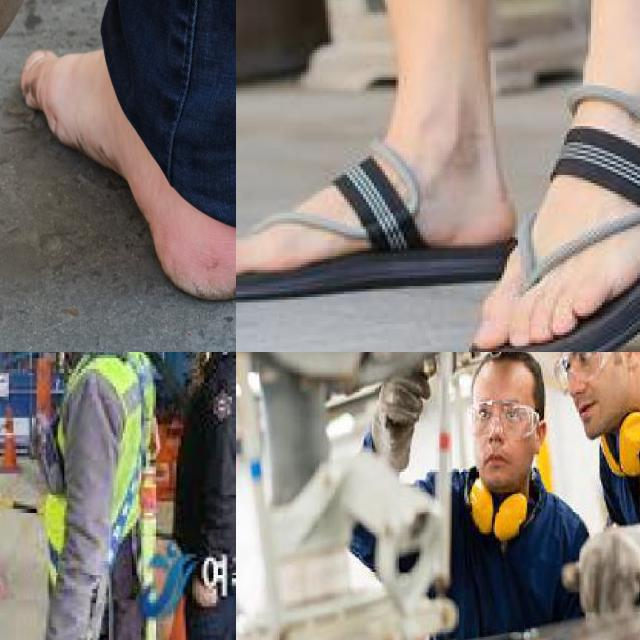Barefoots: (20, 47, 236, 300)
Ear-protection: (457, 465, 547, 541), (580, 415, 640, 486)
Sandals: (465, 62, 640, 352), (236, 148, 515, 301)
glasses: (458, 394, 542, 441), (553, 352, 624, 395)
head_nohelmet: (465, 352, 554, 490), (550, 352, 640, 448)
person: (356, 352, 579, 640), (536, 352, 640, 623)
